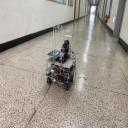cart: (44, 55, 76, 91)
